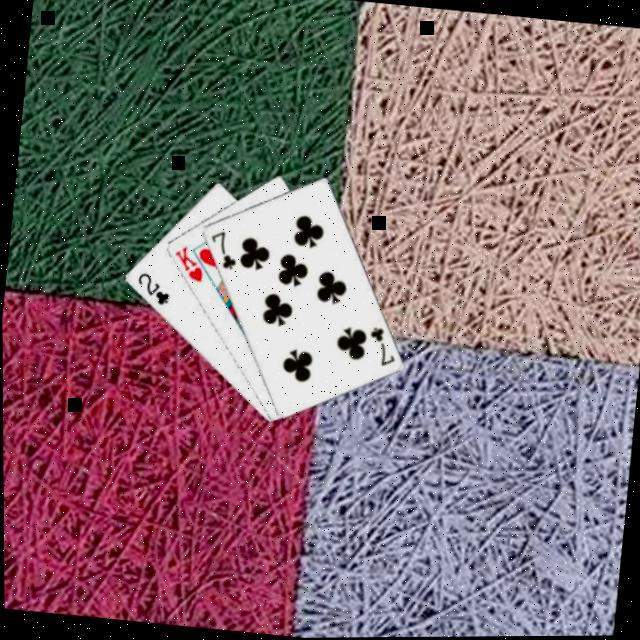2C: (131, 269, 175, 309)
7C: (363, 324, 400, 371), (204, 228, 241, 274)
KH: (168, 242, 207, 285)
